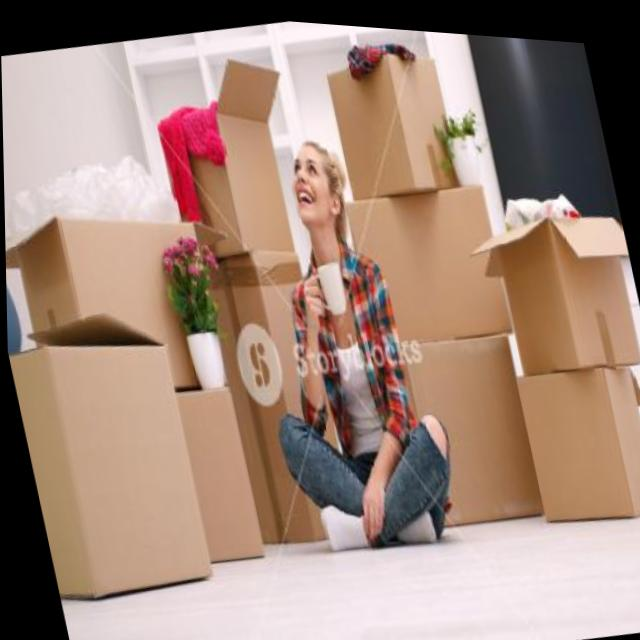box: (5, 296, 220, 625), (3, 183, 237, 423), (199, 240, 371, 562), (453, 169, 640, 394), (386, 300, 552, 552), (137, 37, 313, 267), (340, 166, 518, 358), (499, 327, 640, 553), (319, 26, 467, 212), (166, 373, 274, 586)
